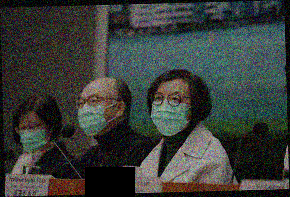with_mask: (149, 86, 193, 135), (75, 90, 116, 136), (15, 117, 52, 154)
